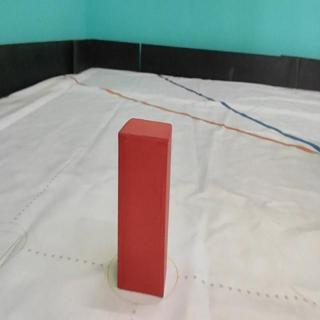redbox: (119, 118, 173, 299)
